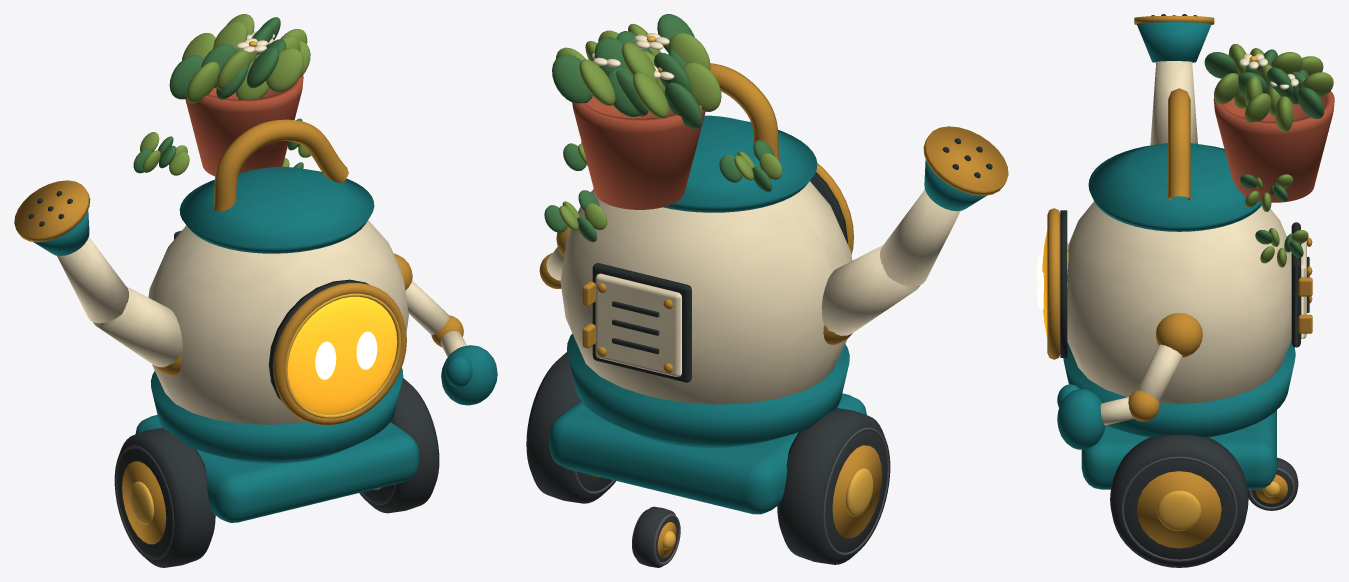
The picture shows the model from 3 angles, left to right: view 1: azimuth 30°, elevation 25°; view 2: azimuth 150°, elevation 25°; view 3: azimuth 270°, elevation 25°; orthographic projection. The views are drawn at different scales.
Visible parts, largest first — view 1: body__robot_teal, body__robot_cream, wheel_l, head__robot_amber, body__robot_brass, plants__robot_leaf_light, plants__robot_terracotta, wheel_r, plants__robot_leaf, head__robot_brass, left_arm__robot_teal, wheel_l_hub (+5 smaller); view 2: body__robot_cream, body__robot_teal, wheel_l, plants__robot_terracotta, plants__robot_leaf, body__robot_brass, plants__robot_leaf_light, wheel_r, body__robot_ink, wheel_l_hub, wheel_c, plants__robot_flower (+2 smaller); view 3: body__robot_cream, body__robot_teal, wheel_r, plants__robot_terracotta, plants__robot_leaf_light, wheel_r_hub, body__robot_brass, plants__robot_leaf, left_arm__robot_teal, left_arm__robot_brass, left_arm__robot_cream, head__robot_brass (+6 smaller).
Boxes of the visible parts, x1,y1,x2,y2 form: body__robot_teal: (33,167,418,522); body__robot_cream: (57,220,408,424); wheel_l: (114,428,215,567); head__robot_amber: (287,296,397,414); body__robot_brass: (14,119,348,375); plants__robot_leaf_light: (140,14,311,175); plants__robot_terracotta: (185,75,303,176); wheel_r: (359,378,439,513); plants__robot_leaf: (133,17,303,173); head__robot_brass: (273,283,406,424); left_arm__robot_teal: (441,345,497,405); wheel_l_hub: (122,461,166,544); body__robot_cream: (560,181,960,404); body__robot_teal: (549,115,986,514); wheel_l: (777,408,890,564); plants__robot_terracotta: (572,96,705,209); plants__robot_leaf: (544,14,774,242); body__robot_brass: (582,63,1008,372); plants__robot_leaf_light: (548,24,782,230); wheel_r: (526,352,615,503); body__robot_ink: (592,138,992,382); wheel_l_hub: (832,445,881,538); wheel_c: (632,506,680,567); plants__robot_flower: (592,33,674,79); body__robot_cream: (1067,61,1306,403); body__robot_teal: (1063,22,1295,489); wheel_r: (1110,434,1248,567); plants__robot_terracotta: (1213,91,1334,202); plants__robot_leaf_light: (1214,44,1333,267); wheel_r_hub: (1137,471,1221,548); body__robot_brass: (1134,15,1312,333); plants__robot_leaf: (1204,49,1324,257); left_arm__robot_teal: (1057,384,1105,449); left_arm__robot_brass: (1128,313,1202,421); left_arm__robot_cream: (1100,344,1182,425); head__robot_brass: (1047,208,1060,359).
Bounding box in the file's own units: 0.9564 × 0.9968 × 0.58.
Materials: 14 (2 with a texture image).
